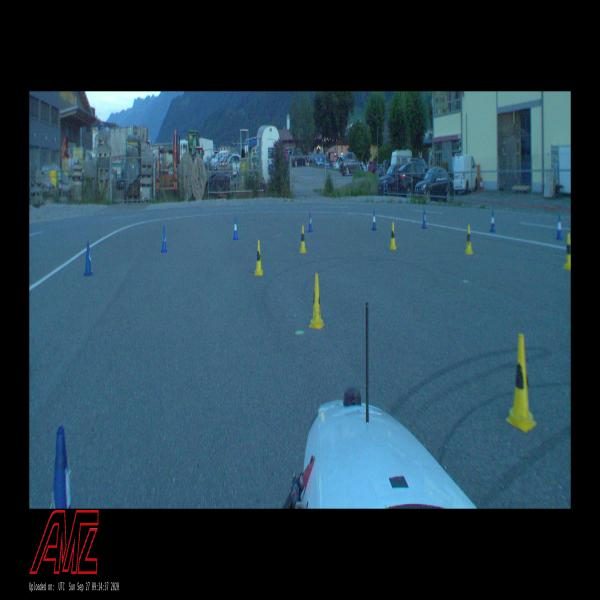blue_cone: (48, 425, 72, 509), (84, 241, 93, 276), (555, 214, 563, 241), (161, 227, 167, 252), (490, 210, 496, 232), (307, 211, 313, 232), (233, 217, 238, 241), (422, 209, 427, 229), (372, 210, 376, 232)
yellow_cone: (506, 333, 536, 432), (309, 274, 325, 329), (254, 240, 264, 276), (564, 233, 571, 270), (465, 224, 473, 255), (300, 224, 306, 253), (390, 222, 396, 249)
